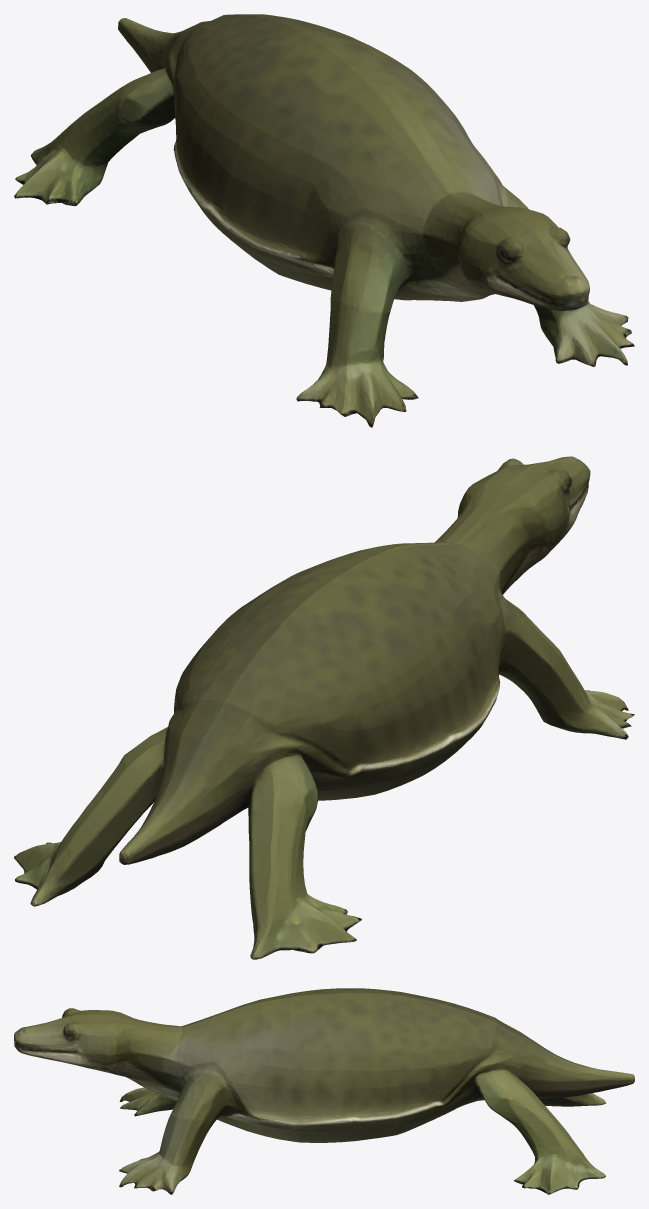
The picture shows the model from 3 angles, top to bottom: view 1: azimuth 30°, elevation 25°; view 2: azimuth 150°, elevation 25°; view 3: azimuth 270°, elevation 25°; orthographic projection. The views are drawn at different scales.
Parts seen in each view (by area): view 1: world; view 2: world; view 3: world.
Part boxes in pixels (left/top/right/bottom): world: left=14, top=14, right=634, bottom=427; world: left=14, top=456, right=634, bottom=959; world: left=14, top=988, right=634, bottom=1194.
Bounding box in the file's own units: 0.4337 × 0.2697 × 1.
Materials: 1 (1 with a texture image).
